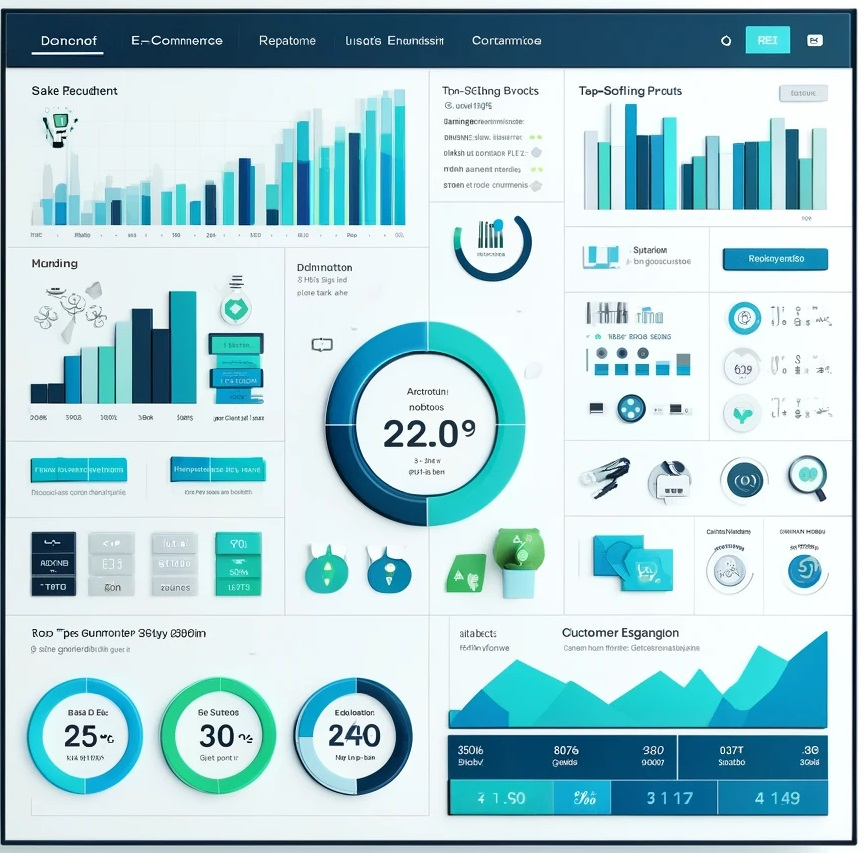

This screenshot's page, from the dashboard's own definition file:
{"tool":"powerbi","page":{"name":"Página 1","canvas":[1280,720],"ordinal":0},"visuals":[{"type":"donutChart","fields":{"Category":["Sheet1.nivel_estoque"],"Y":["CountNonNull(Sheet1.nivel_estoque)"]},"box":[366.8,407.9,497.5,280.8],"z":0},{"type":"barChart","fields":{"Category":["Sheet1.categoria"],"Y":["Sum(Sheet1.custo_total)"]},"box":[866.7,464.8,348.6,199.7],"z":1000},{"type":"barChart","fields":{"Category":["Sheet1.descricao"],"Y":["Sum(Sheet1.custo_total)"]},"box":[858.2,202.2,372.8,181.6],"z":2000},{"type":"gauge","fields":{"Y":["Sum(Sheet1.espaco_ocupado)"],"MaxValue":["Max(Sheet1.espaco_disponivel)"]},"box":[487.8,226.4,243.3,104.1],"z":3000},{"type":"card","fields":{"Values":["CountNonNull(Sheet1.estoque_atual)"]},"box":[1030.1,20.6,185.2,92],"z":4000},{"type":"card","fields":{"Values":["CountNonNull(Sheet1.estoque_atual)"]},"box":[828,20.6,174.3,92],"z":5000},{"type":"card","fields":{"Values":["Sum(Sheet1.custo_total)"]},"box":[606.5,20.6,174.3,92],"z":6000},{"type":"card","fields":{"Values":["Max(Sheet1.indicador_potencial)"]},"box":[397,20.6,174.3,92],"z":7000},{"type":"card","fields":{"Values":["Max(Sheet1.meta_de_vendas)"]},"box":[84.2,248.9,278.3,91.9],"z":8000},{"type":"card","fields":{"Values":["Max(Sheet1.potencial_do_espaco_disponivel)"]},"box":[84.2,417.4,278.3,91.9],"z":9000},{"type":"card","fields":{"Values":["Max(Sheet1.potencial_do_espaco_ocupado)"]},"box":[84.2,334.4,278.3,90.6],"z":10000},{"type":"gauge","fields":{"MaxValue":["Max(Sheet1.potencial_do_espaco_disponivel)"],"Y":["Max(Sheet1.potencial_do_espaco_ocupado)"],"TargetValue":["Max(Sheet1.meta_de_vendas)"]},"box":[124.7,502.4,222.7,190],"z":11000}]}

Visuals, with their boxes on the page's 1280x720 design canvas (x1, y1, x2, y2). These are canvas units, not pixel positions in the 865x853 screenshot, which may show the page scaled, cropped or inside an application window:
donutChart - Sheet1.nivel_estoque x CountNonNull(Sheet1.nivel_estoque): locate(367, 408, 864, 689)
barChart - Sheet1.categoria x Sum(Sheet1.custo_total): locate(867, 465, 1215, 664)
barChart - Sheet1.descricao x Sum(Sheet1.custo_total): locate(858, 202, 1231, 384)
gauge - Sum(Sheet1.espaco_ocupado) x Max(Sheet1.espaco_disponivel): locate(488, 226, 731, 330)
card - CountNonNull(Sheet1.estoque_atual): locate(1030, 21, 1215, 113)
card - CountNonNull(Sheet1.estoque_atual): locate(828, 21, 1002, 113)
card - Sum(Sheet1.custo_total): locate(606, 21, 781, 113)
card - Max(Sheet1.indicador_potencial): locate(397, 21, 571, 113)
card - Max(Sheet1.meta_de_vendas): locate(84, 249, 362, 341)
card - Max(Sheet1.potencial_do_espaco_disponivel): locate(84, 417, 362, 509)
card - Max(Sheet1.potencial_do_espaco_ocupado): locate(84, 334, 362, 425)
gauge - Max(Sheet1.potencial_do_espaco_disponivel) x Max(Sheet1.potencial_do_espaco_ocupado): locate(125, 502, 347, 692)
